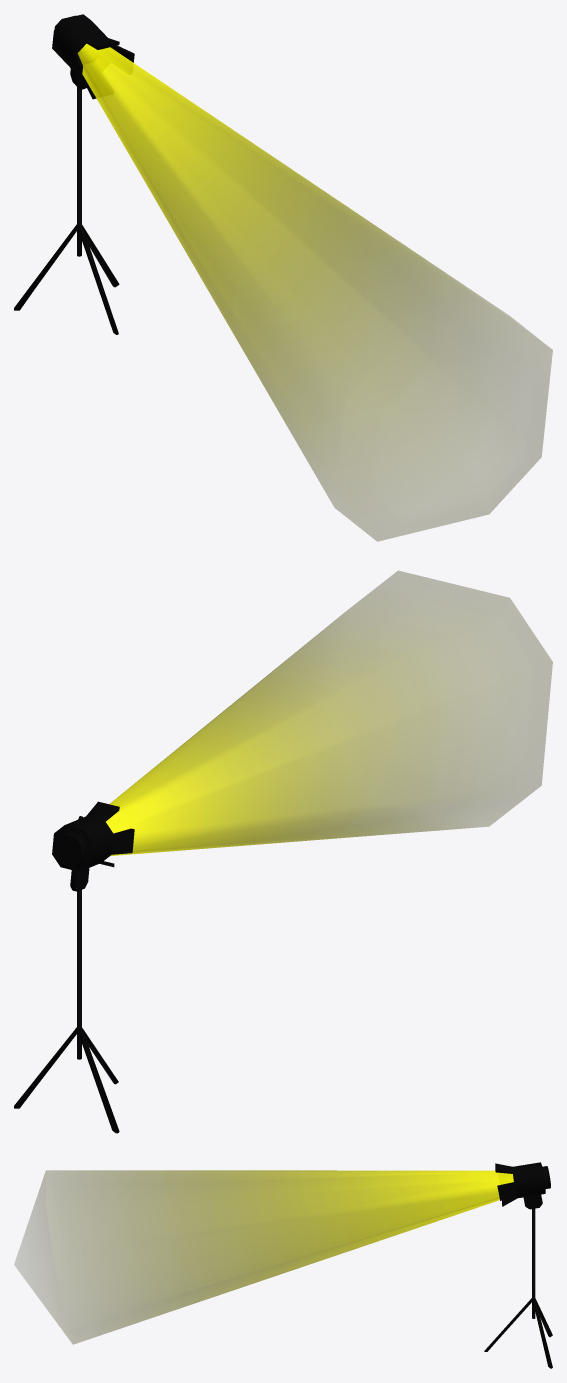
The picture shows the model from 3 angles, top to bottom: view 1: azimuth 30°, elevation 25°; view 2: azimuth 150°, elevation 25°; view 3: azimuth 270°, elevation 25°; orthographic projection. The views are drawn at different scales.
Parts seen in each view (by area): view 1: LightingStandOnYellow; view 2: LightingStandOnYellow; view 3: LightingStandOnYellow.
Boxes of the visible parts, <box> form: LightingStandOnYellow: <box>14,14,552,541</box>; LightingStandOnYellow: <box>14,571,552,1133</box>; LightingStandOnYellow: <box>14,1162,552,1368</box>.
Size of what is drawn, in the model's own units: 2.58 by 3.41 by 8.91.
2 materials, 2 textured.
